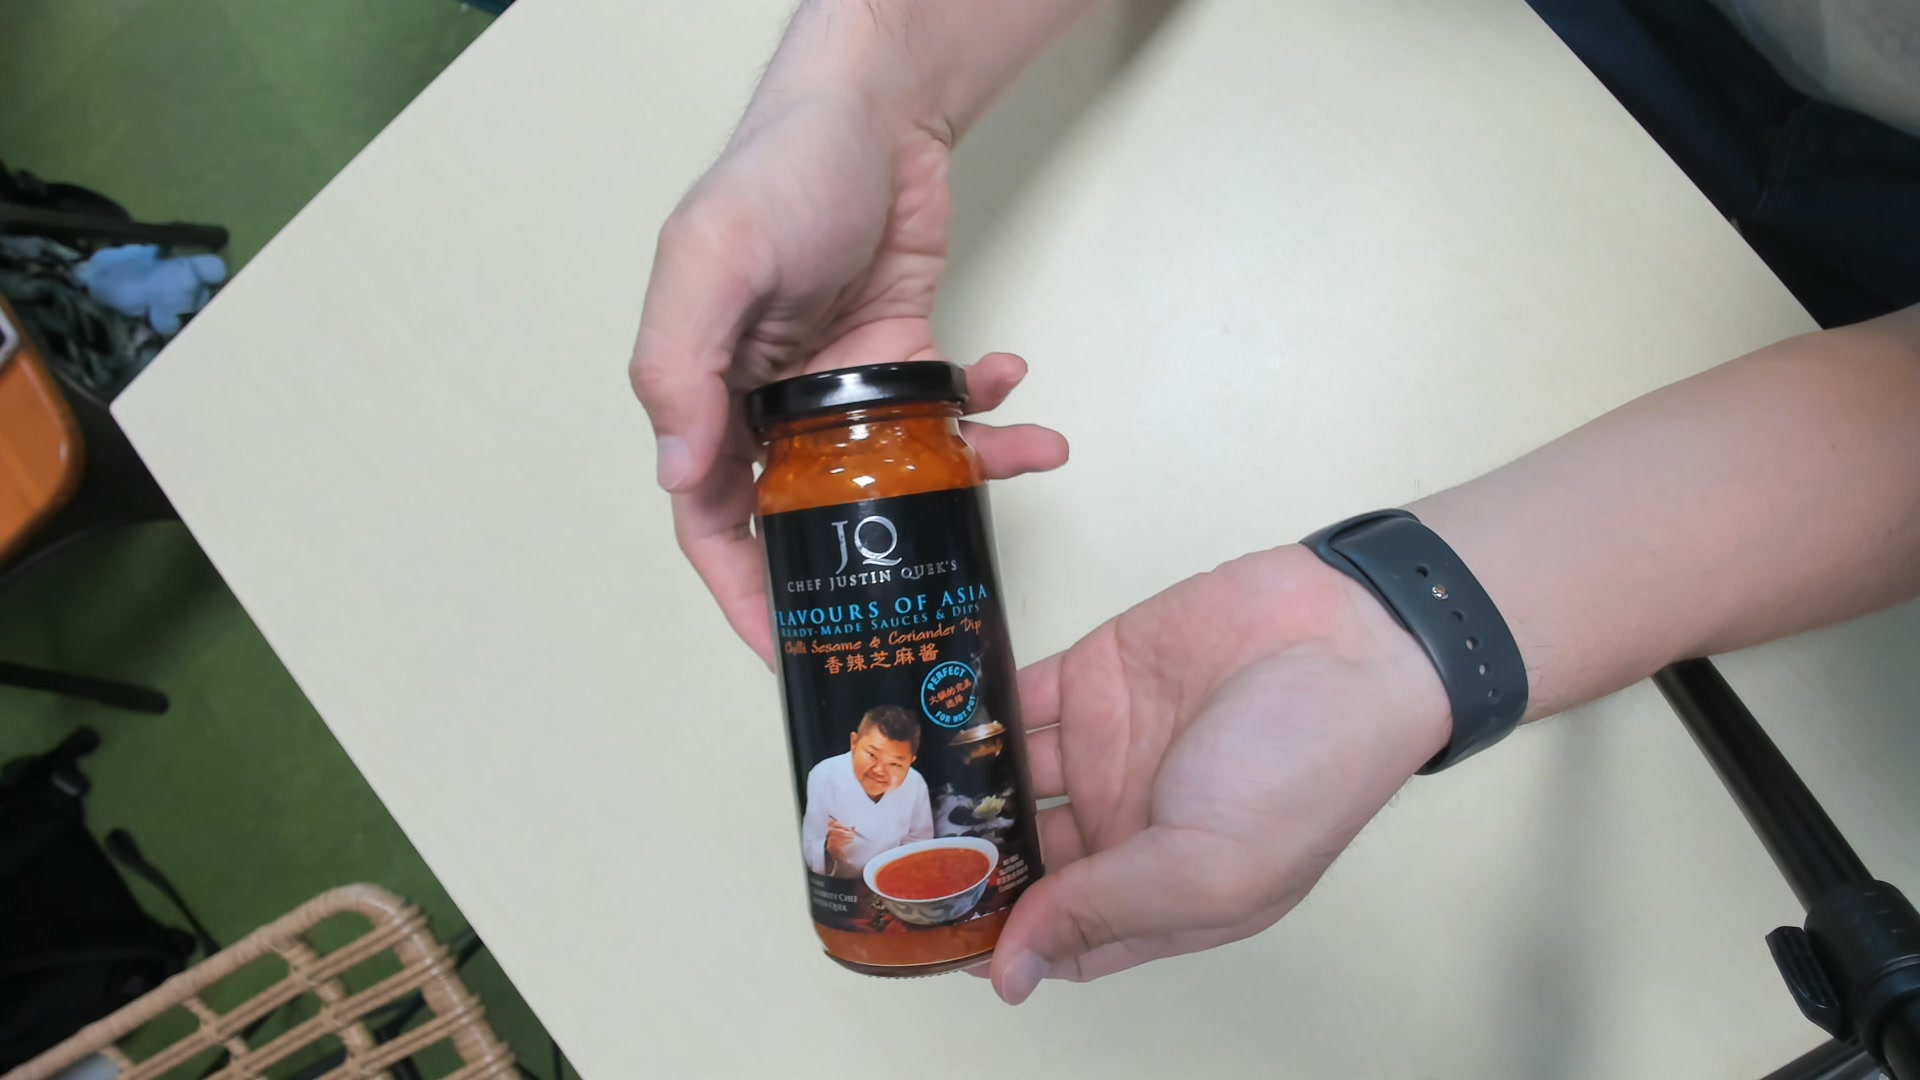OtherSauceDressing_300-399g_NonHalal_NonHealthy: (746, 360, 1043, 982)
